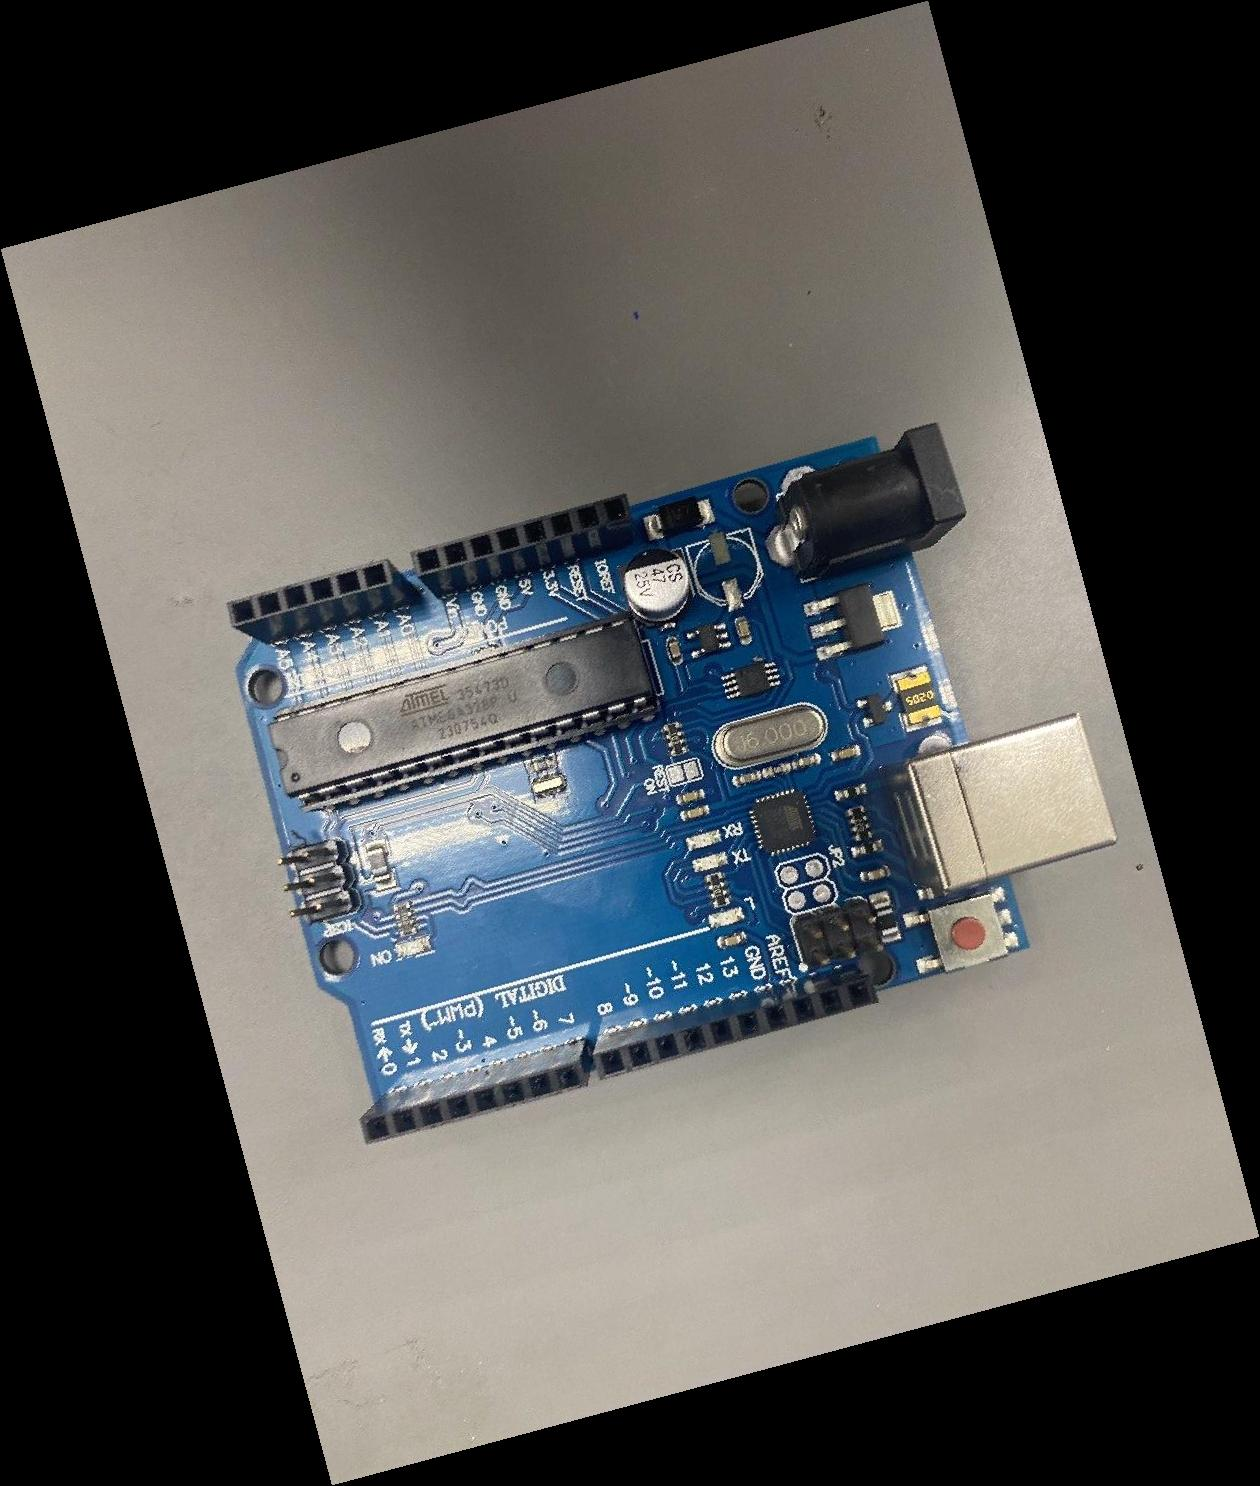ATmega328 chip: (266, 612, 659, 813)
Arduino board: (227, 421, 1119, 1144)
USB: (879, 711, 1119, 896)
capacitor: (622, 548, 690, 624)
pins: (594, 964, 880, 1080), (358, 1039, 590, 1146), (411, 494, 634, 600), (228, 558, 413, 644)
resistor: (702, 751, 732, 1029), (843, 684, 873, 961), (392, 781, 420, 1060), (662, 600, 689, 879)
